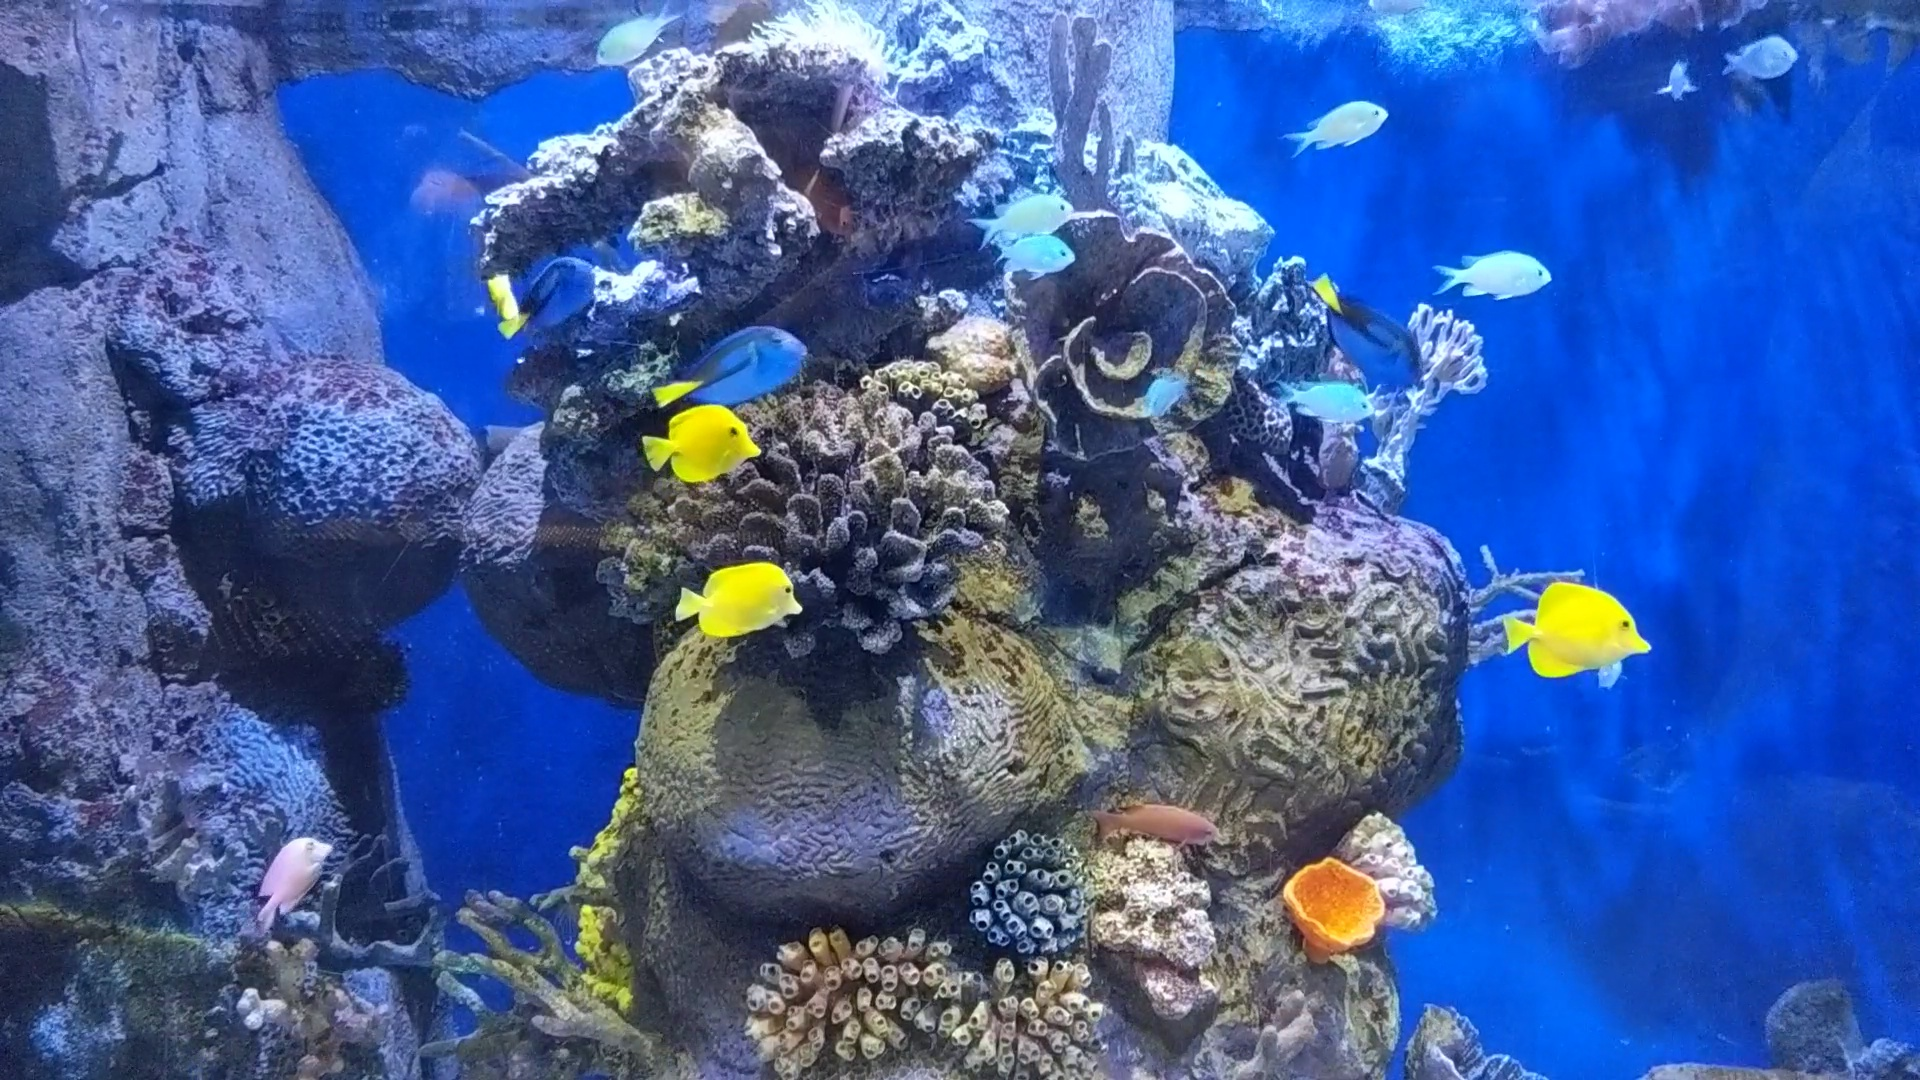blue tang surgeonfish: (638, 320, 812, 425), (1303, 272, 1439, 396), (510, 261, 640, 371)
damselfish: (585, 0, 707, 82), (1283, 84, 1394, 165), (1429, 239, 1557, 305), (967, 191, 1092, 251), (1722, 22, 1811, 92), (1274, 376, 1386, 426), (989, 228, 1083, 282), (1658, 47, 1706, 123), (1131, 369, 1192, 426)
saddle butterfly fish: (1495, 572, 1655, 688), (669, 551, 799, 651), (637, 400, 765, 480), (477, 255, 539, 345)
